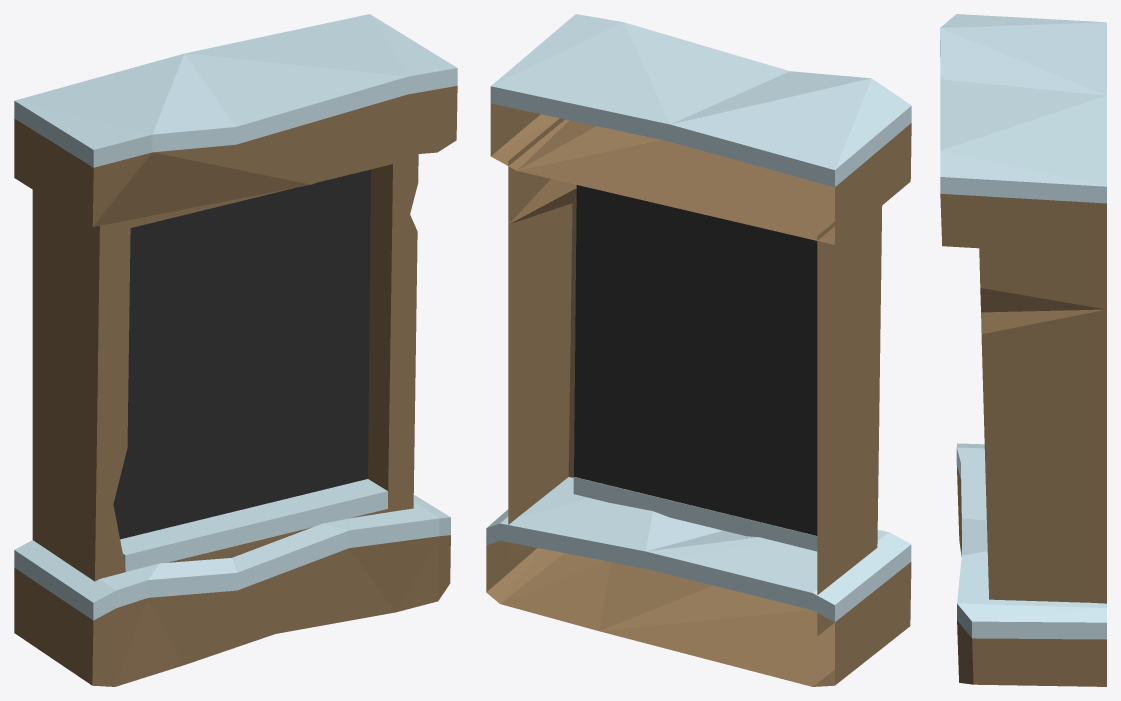
The model's file is SM_Bld_House_Window_05_Snow.gltf.
3 views of the same model, side by side, from view 1: azimuth 30°, elevation 25°; view 2: azimuth 150°, elevation 25°; view 3: azimuth 270°, elevation 25° (orthographic). The views are drawn at different scales.
Parts seen in each view (by area): view 1: SM_Bld_House_Window_05_Snow; view 2: SM_Bld_House_Window_05_Snow; view 3: SM_Bld_House_Window_05_Snow.
Boxes of the visible parts, x1=… form: SM_Bld_House_Window_05_Snow: x1=14, y1=14, x2=457, y2=686; SM_Bld_House_Window_05_Snow: x1=486, y1=14, x2=911, y2=686; SM_Bld_House_Window_05_Snow: x1=940, y1=14, x2=1106, y2=686.
Size of the model in its own units: 0.6489 by 0.9458 by 0.2706.
Materials: 1 (1 with a texture image).
